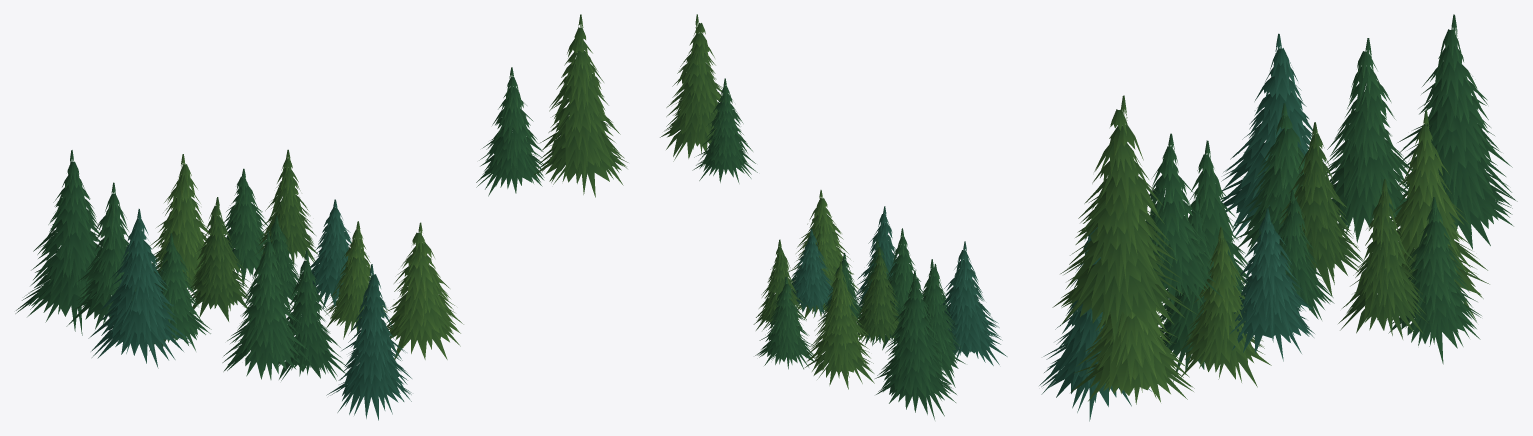
Rendered from pine_0.glb.
3 renders of one model, left to right at view 1: azimuth 30°, elevation 25°; view 2: azimuth 150°, elevation 25°; view 3: azimuth 270°, elevation 25°, orthographic. The views are drawn at different scales.
Parts seen in each view (by area): view 1: pine_0; view 2: pine_0; view 3: pine_0.
Part boxes in pixels (left/top/right/bottom): pine_0: left=15, top=14, right=628, bottom=420; pine_0: left=660, top=14, right=1007, bottom=419; pine_0: left=1039, top=14, right=1517, bottom=421.
Bounding box in the file's own units: 41.8 × 27.17 × 26.47.
1 material, 1 textured.
